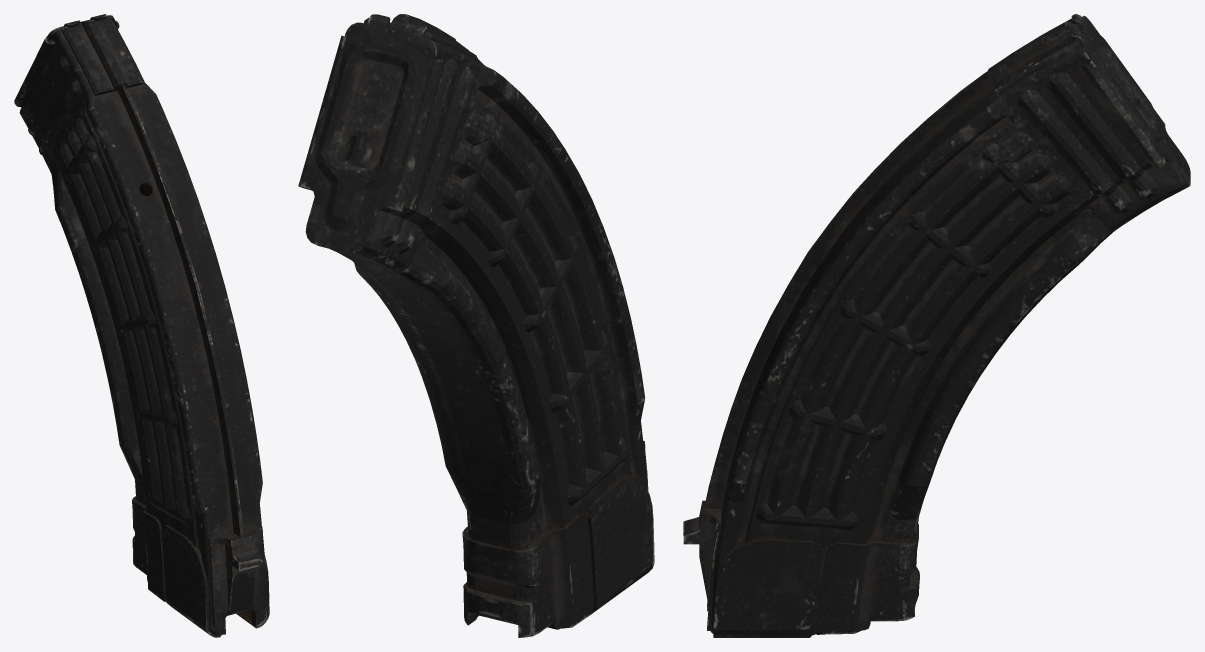
3 renders of one model, left to right at view 1: azimuth 30°, elevation 25°; view 2: azimuth 150°, elevation 25°; view 3: azimuth 270°, elevation 25°, orthographic. The views are drawn at different scales.
Visible parts, largest first — view 1: TW_5b1fd4e35acfc40018633c39_PZ_Import; view 2: TW_5b1fd4e35acfc40018633c39_PZ_Import; view 3: TW_5b1fd4e35acfc40018633c39_PZ_Import.
Boxes of the visible parts, <box> form: TW_5b1fd4e35acfc40018633c39_PZ_Import: <box>14,14,269,637</box>; TW_5b1fd4e35acfc40018633c39_PZ_Import: <box>298,14,654,637</box>; TW_5b1fd4e35acfc40018633c39_PZ_Import: <box>683,14,1190,637</box>.
Size of the model in its own units: 0.0176 by 0.0885 by 0.116.
Materials: 1 (1 with a texture image).
